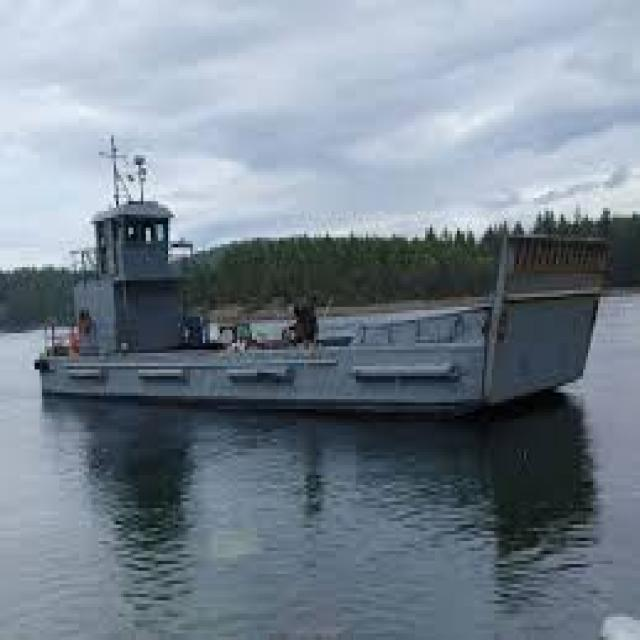cargoship: (45, 165, 612, 406)
